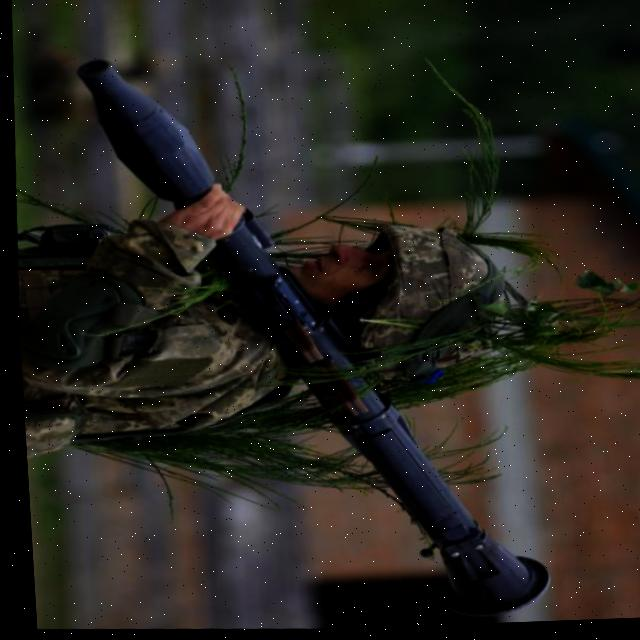rocket: (55, 24, 563, 638)
